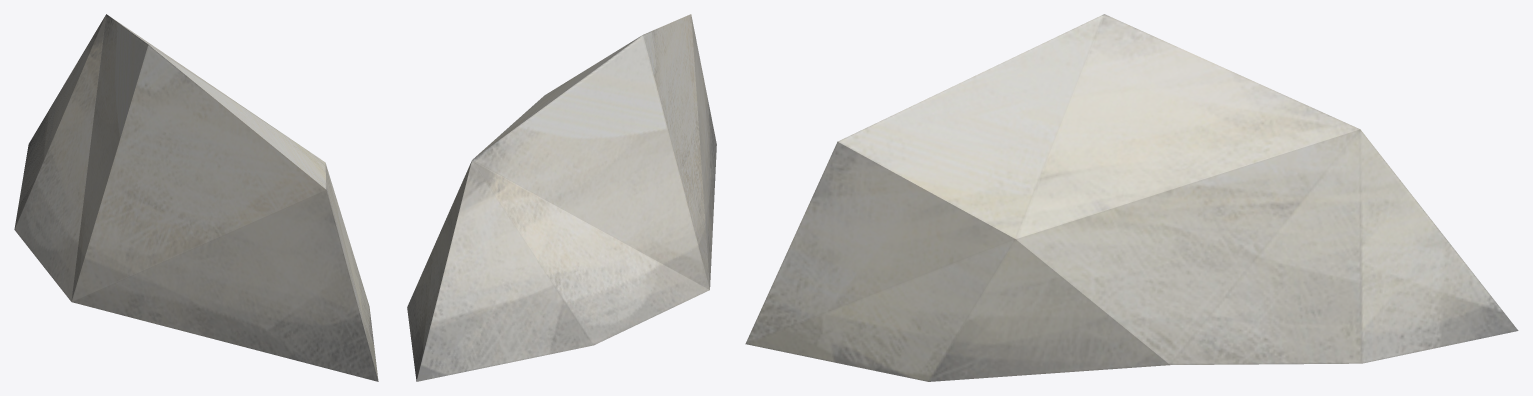
File: cloud2.fbx
3 renders of one model, left to right at view 1: azimuth 30°, elevation 25°; view 2: azimuth 150°, elevation 25°; view 3: azimuth 270°, elevation 25°, orthographic. The views are drawn at different scales.
Parts seen in each view (by area): view 1: cloud2; view 2: cloud2; view 3: cloud2.
Boxes of the visible parts, left/top/right/bottom form: cloud2: left=14, top=14, right=378, bottom=381; cloud2: left=407, top=14, right=716, bottom=381; cloud2: left=745, top=14, right=1518, bottom=381.
Size of the model in its own units: 0.0383 by 0.0396 by 0.0971.
